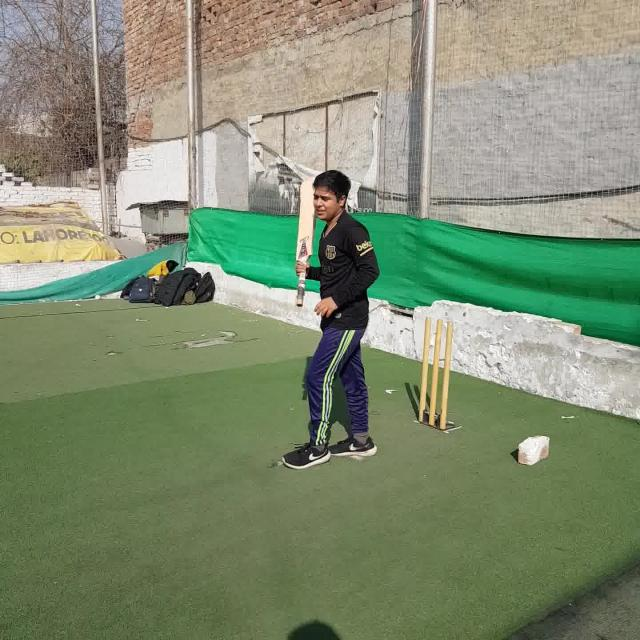ball: (96, 294, 100, 300)
bat: (297, 180, 314, 308)
